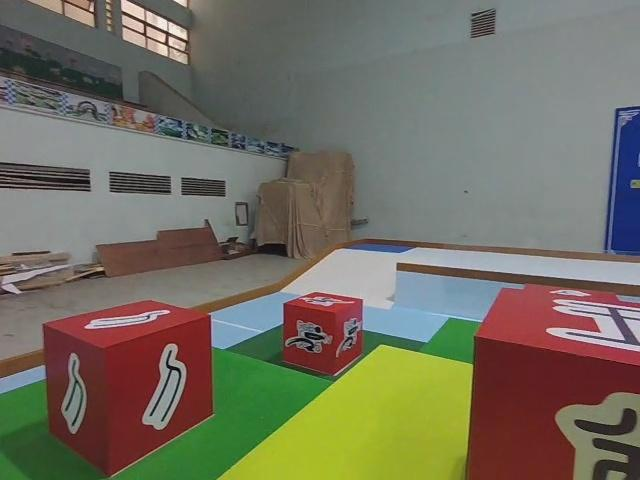R1: (281, 292, 363, 373)
R2 Fake: (468, 288, 640, 480)
R2 Real: (41, 301, 215, 479)
